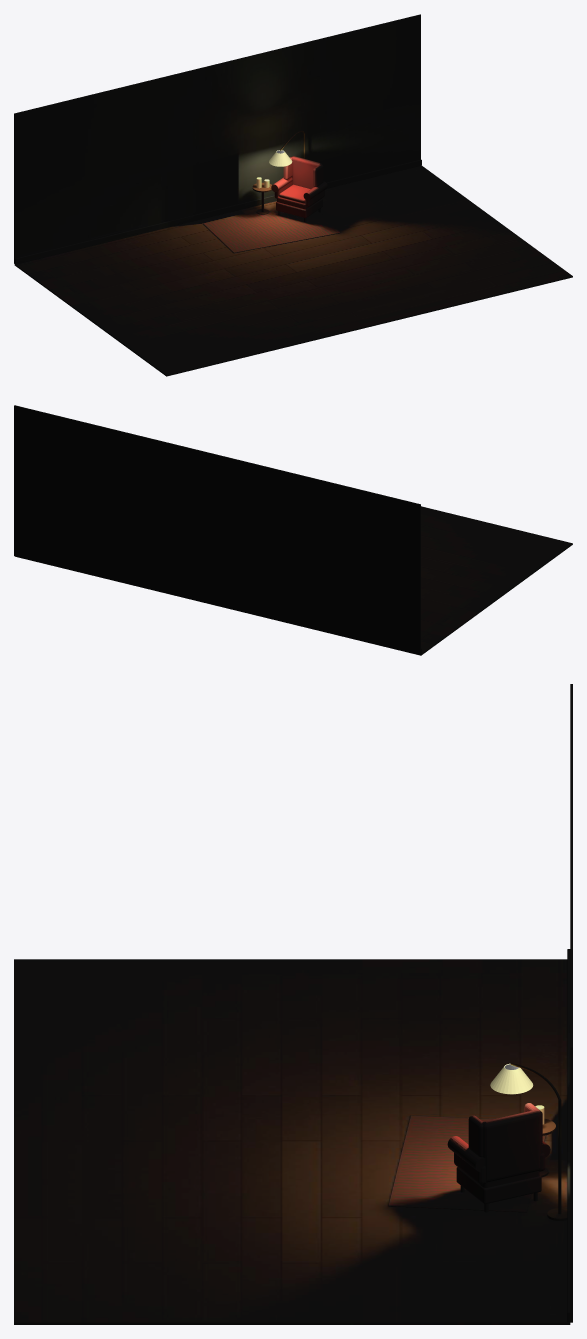
File: room-blocks.glb
3 views of the same model, one above another, from view 1: azimuth 30°, elevation 25°; view 2: azimuth 150°, elevation 25°; view 3: azimuth 270°, elevation 25° (orthographic). The views are drawn at different scales.
Visible parts, largest first — view 1: room_shell, room_chair, room_furniture; view 2: room_shell; view 3: room_shell, room_chair, room_furniture.
Part boxes in pixels (box(x1,y1,x2,y2)): room_shell: box(14, 14, 572, 376); room_chair: box(271, 156, 327, 221); room_furniture: box(252, 130, 305, 214); room_shell: box(14, 405, 572, 655); room_shell: box(14, 684, 572, 1324); room_chair: box(447, 1103, 550, 1212); room_furniture: box(490, 1063, 567, 1220).
Size of the model in its own units: 34 by 12.1 by 22.1.
Materials: 3 (3 with a texture image).
